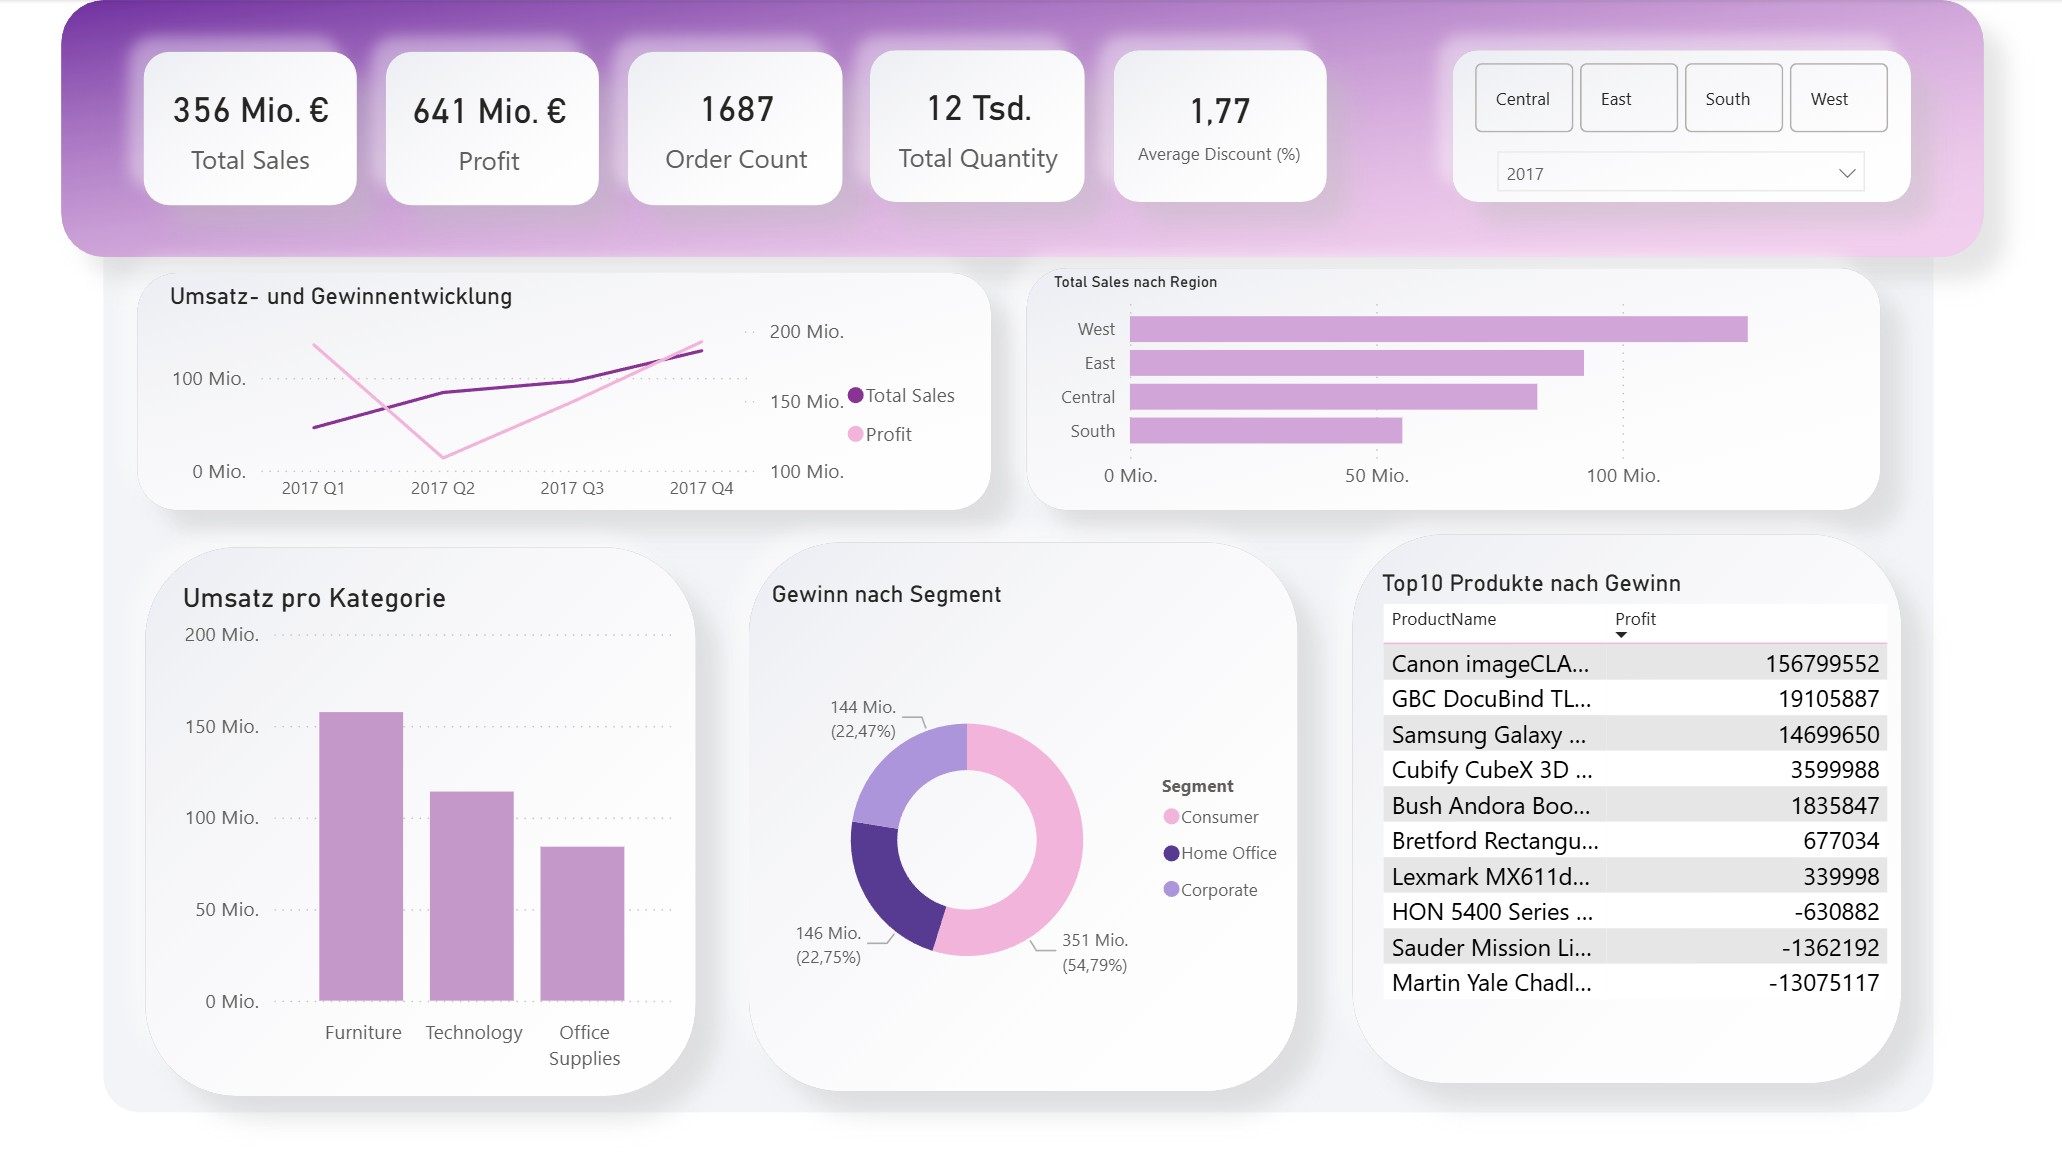

This screenshot's page, from the dashboard's own definition file:
{"tool":"powerbi","page":{"name":"Seite 1","canvas":[1280,720],"ordinal":0},"visuals":[{"type":"card","fields":{"Values":["Measures = {}.Total Sales"]},"box":[91.1,40.3,128.3,77.5],"z":0},{"type":"card","fields":{"Values":["Measures = {}.Profit"]},"box":[241.7,42.1,122.7,74.4],"z":1000},{"type":"card","fields":{"Values":["Measures = {}.Total Quantity"]},"box":[549.5,43,112.9,69.9],"z":2000},{"type":"card","fields":{"Values":["Measures = {}.Order Count"]},"box":[397.1,40.3,118.3,75.3],"z":3000},{"type":"card","fields":{"Values":["Measures = {}.Average Discount"]},"box":[695.3,38.8,120.6,74.7],"z":4000},{"type":"lineChart","title":"Umsatz- und Gewinnentwicklung","fields":{"Y":["Measures = {}.Total Sales"],"Category":["DateTable.YearQuarter"],"Y2":["Measures = {}.Profit"]},"box":[100.4,175.7,505.5,145.2],"z":5000},{"type":"columnChart","title":"Umsatz pro Kategorie","fields":{"Y":["Measures = {}.Total Sales"],"Category":["DimProduct.Category"]},"box":[108.5,360.3,313.7,311],"z":6000},{"type":"tableEx","title":"Top10 Produkte nach Gewinn","fields":{"Values":["DimProduct.ProductName","Measures = {}.Profit"]},"box":[851.5,354.1,323.6,294.9],"z":7000},{"type":"barChart","fields":{"Category":["DimRegion.Region"],"Y":["Measures = {}.Total Sales"]},"box":[648.1,169.4,508.2,144.3],"z":8000},{"type":"donutChart","title":"Gewinn nach Segment","fields":{"Category":["DimCustomer.Segment"],"Y":["Measures = {}.Profit"]},"box":[473.3,360.3,332.5,304.8],"z":9000},{"type":"advancedSlicerVisual","fields":{"Values":["DimRegion.Region"]},"box":[909,34.7,266.4,53.9],"z":10000},{"type":"slicer","title":"Jahr","fields":{"Values":["DateTable.Year"]},"box":[917.7,84.3,248.5,39.7],"z":11000}]}

Visuals, with their boxes in screenshot pixels (x1, y1, x2, y2), scaled from the page's 1280x720 canvas onto the 2062x1171 screenshot:
card - Measures = {}.Total Sales: bbox=[147, 66, 353, 192]
card - Measures = {}.Profit: bbox=[389, 68, 587, 189]
card - Measures = {}.Total Quantity: bbox=[885, 70, 1067, 184]
card - Measures = {}.Order Count: bbox=[640, 66, 830, 188]
card - Measures = {}.Average Discount: bbox=[1120, 63, 1314, 185]
"Umsatz- und Gewinnentwicklung" lineChart: bbox=[162, 286, 976, 522]
"Umsatz pro Kategorie" columnChart: bbox=[175, 586, 680, 1092]
"Top10 Produkte nach Gewinn" tableEx: bbox=[1372, 576, 1893, 1056]
barChart - DimRegion.Region x Measures = {}.Total Sales: bbox=[1044, 276, 1863, 510]
"Gewinn nach Segment" donutChart: bbox=[762, 586, 1298, 1082]
advancedSlicerVisual - DimRegion.Region: bbox=[1464, 56, 1893, 144]
"Jahr" slicer: bbox=[1478, 137, 1879, 202]
